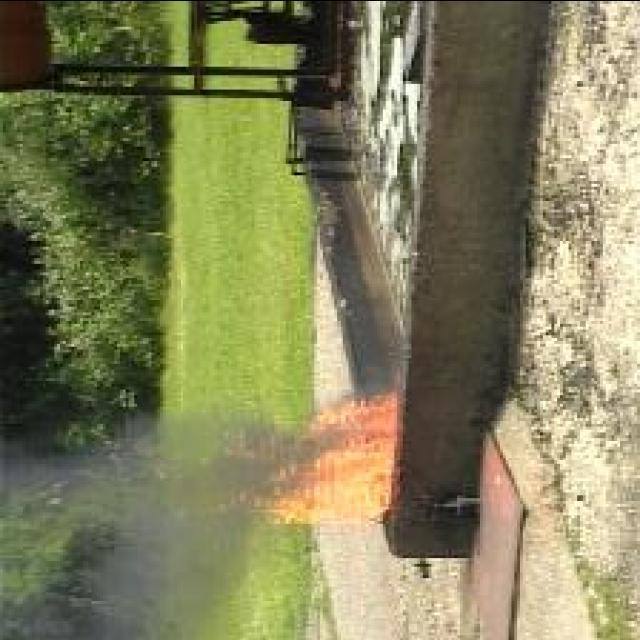Fire: (214, 392, 397, 526)
